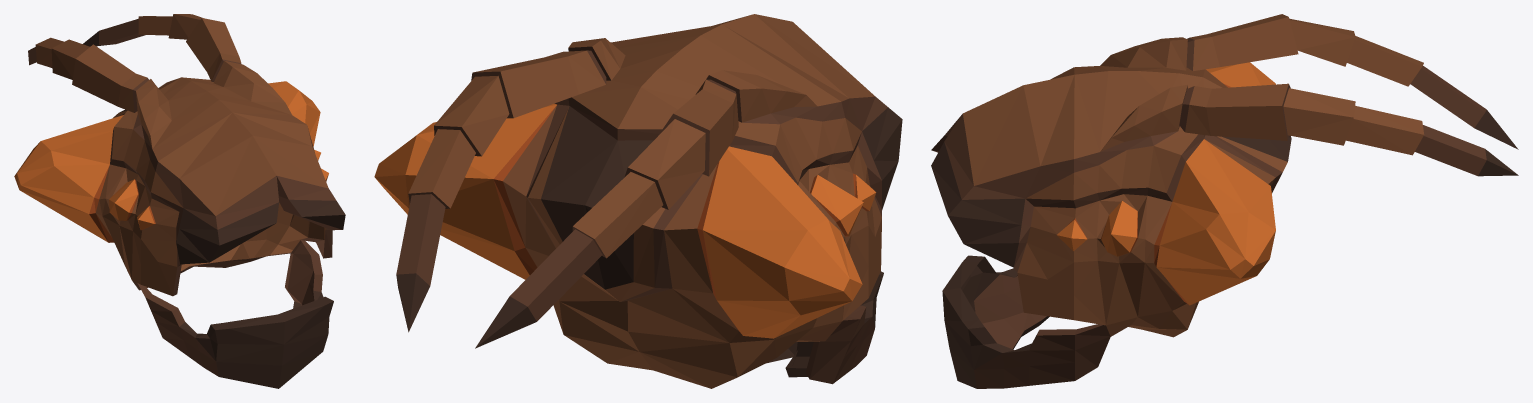
The model's file is RareChitinHelmet.dae.
The picture shows the model from 3 angles, left to right: view 1: azimuth 30°, elevation 25°; view 2: azimuth 150°, elevation 25°; view 3: azimuth 270°, elevation 25°; orthographic projection. The views are drawn at different scales.
Parts seen in each view (by area): view 1: ChitinHelmet; view 2: ChitinHelmet; view 3: ChitinHelmet.
Boxes of the visible parts, left/top/right/bottom form: ChitinHelmet: left=14, top=14, right=345, bottom=388; ChitinHelmet: left=374, top=14, right=902, bottom=388; ChitinHelmet: left=931, top=14, right=1518, bottom=388.
Size of the model in its own units: 2.57 by 3.46 by 2.14.
